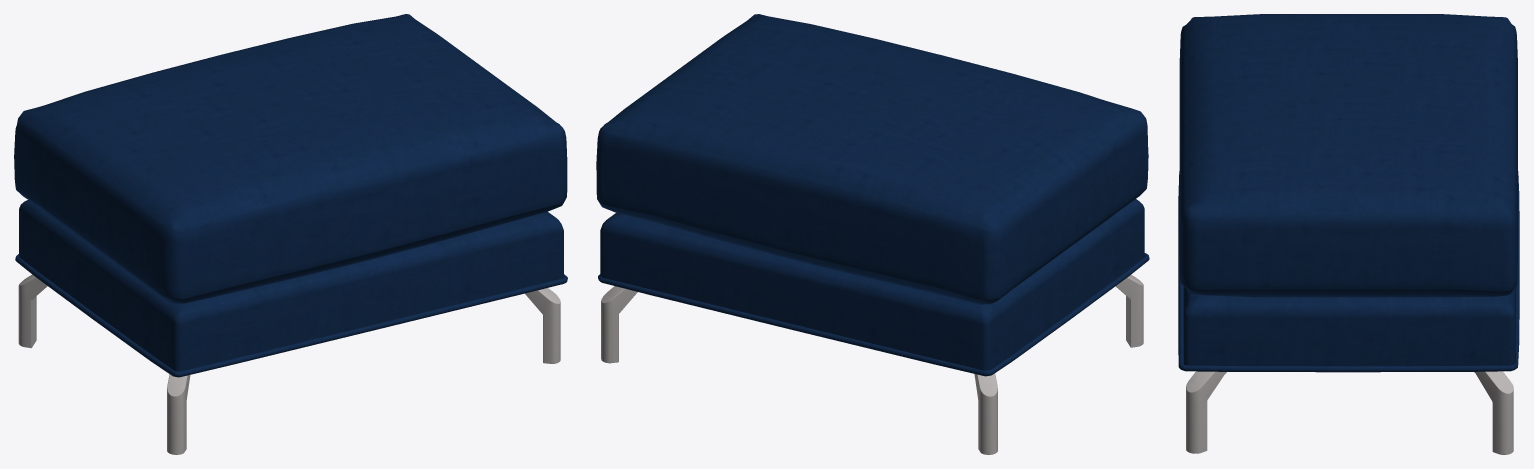
Rendered from sofa_B073ZRS8VF.glb.
3 renders of one model, left to right at view 1: azimuth 30°, elevation 25°; view 2: azimuth 150°, elevation 25°; view 3: azimuth 270°, elevation 25°, orthographic. The views are drawn at different scales.
Visible parts, largest first — view 1: RootNode; view 2: RootNode; view 3: RootNode.
Boxes of the visible parts, box(x1,y1,x2,y2) form: RootNode: box(14, 14, 567, 454); RootNode: box(596, 14, 1149, 454); RootNode: box(1178, 14, 1519, 454).
Bounding box in the file's own units: 0.8351 × 0.4979 × 0.5872.
1 material, 1 textured.
